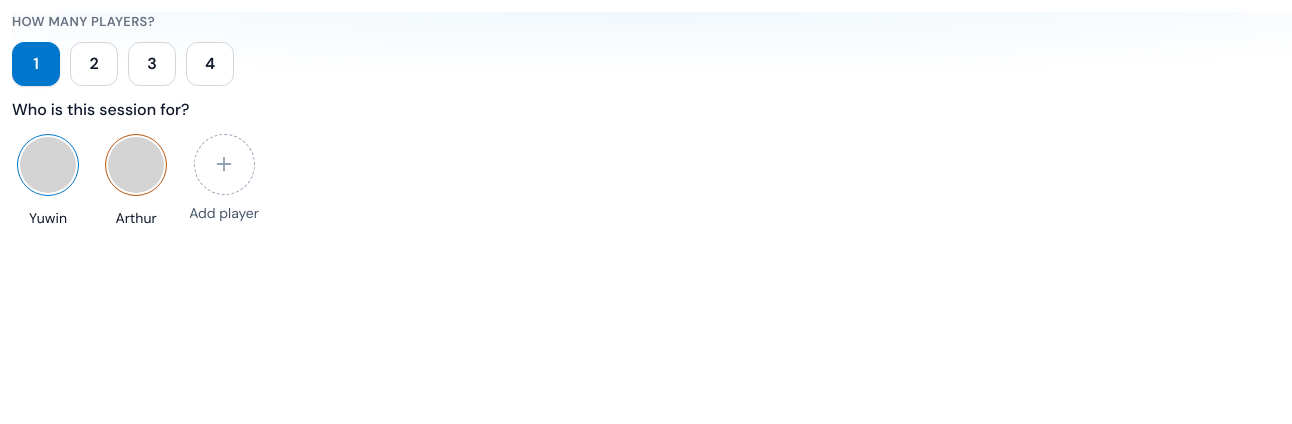
Scenario: AuthedPlayerPicker — group mode › dims unselected avatars at max (guest rows fill the cap)
The width and height of the screenshot is (1292, 424).
Click the button with test id "player-count-2".
click(94, 64)  # box 70,42 -> 118,86
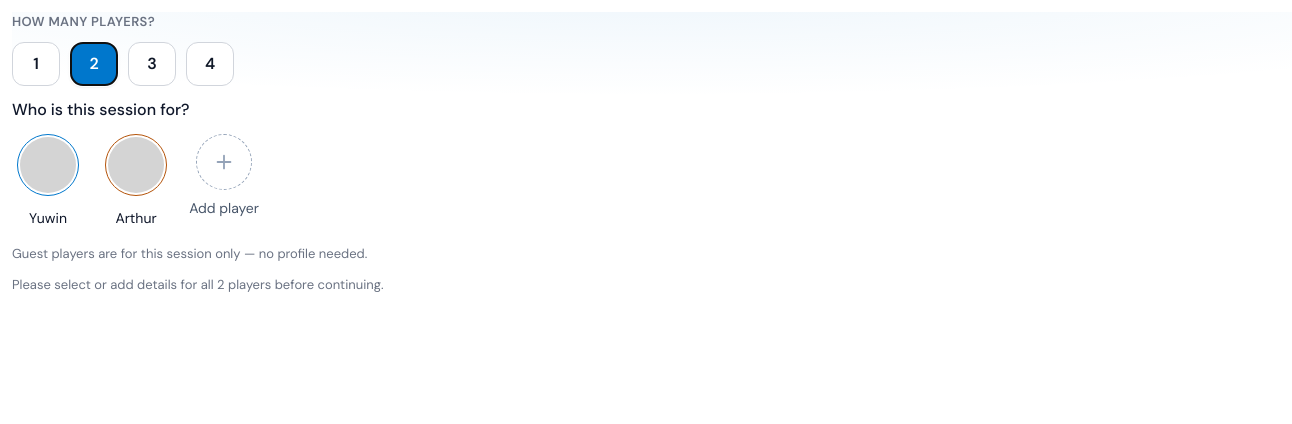
Click the button "Yuwin".
click(48, 180)  # box 12,134 -> 84,228
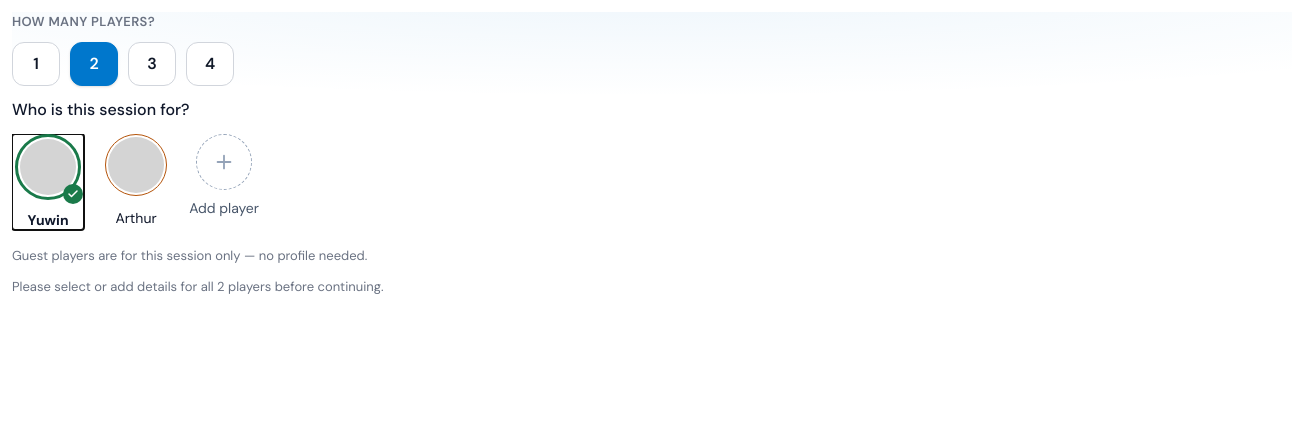
Click the button with test id "add-guest-player".
click(224, 176)  # box 188,134 -> 260,218
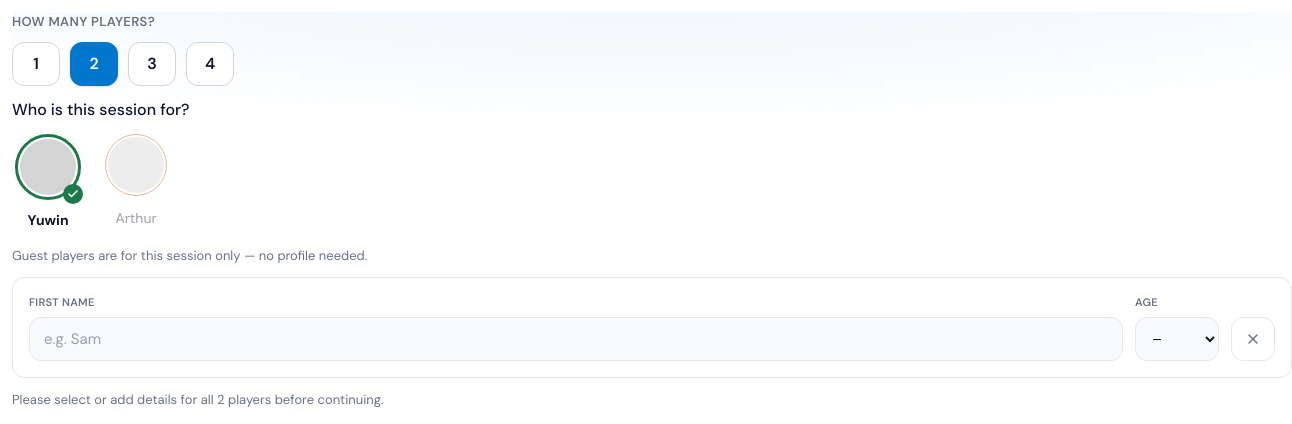
Expected: the button with test id "add-guest-player" is gone
